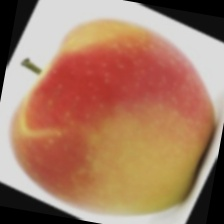apple: (35, 32, 206, 218)
